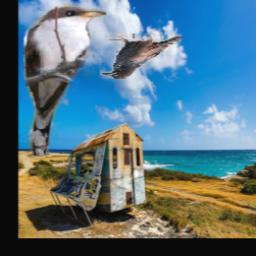Crow: (100, 33, 182, 79)
Cuckoo: (20, 4, 106, 157)
